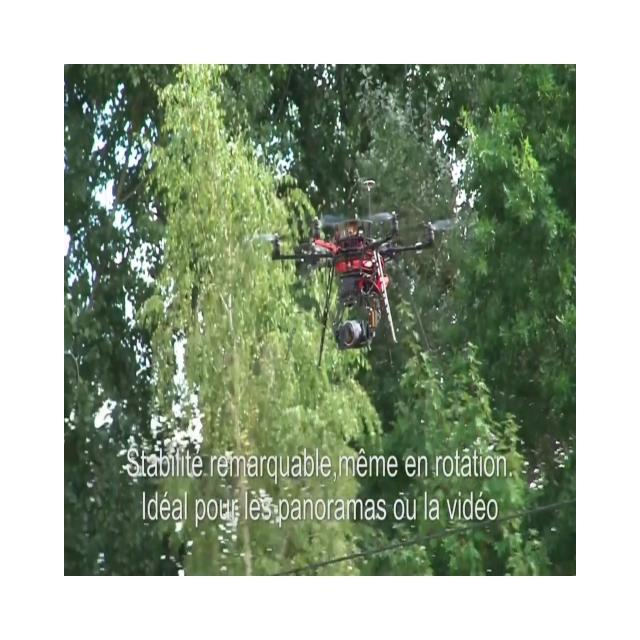drone: (248, 177, 470, 368)
